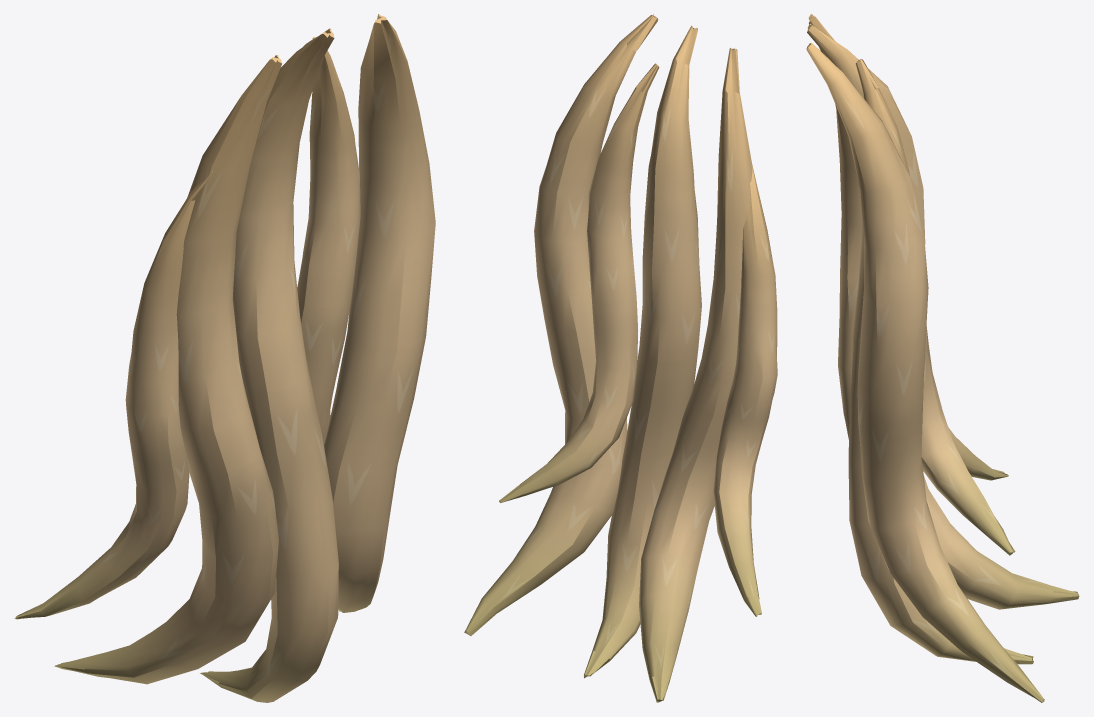
Rendered from MayanRootsB.fbx.
3 views of the same model, side by side, from view 1: azimuth 30°, elevation 25°; view 2: azimuth 150°, elevation 25°; view 3: azimuth 270°, elevation 25° (orthographic). The views are drawn at different scales.
Visible parts, largest first — view 1: Circle.002; view 2: Circle.002; view 3: Circle.002.
Boxes of the visible parts, bbox=[...] form: Circle.002: bbox=[14, 14, 435, 702]; Circle.002: bbox=[464, 14, 777, 702]; Circle.002: bbox=[806, 14, 1079, 702].
Size of the model in its own units: 946 by 1880 by 729.
Materials: 1 (1 with a texture image).
